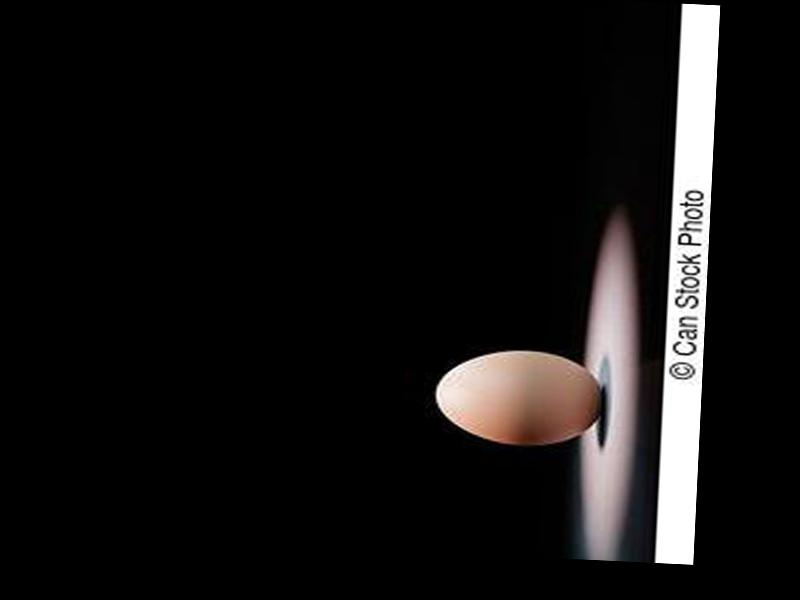Eggs: (434, 346, 606, 451)
